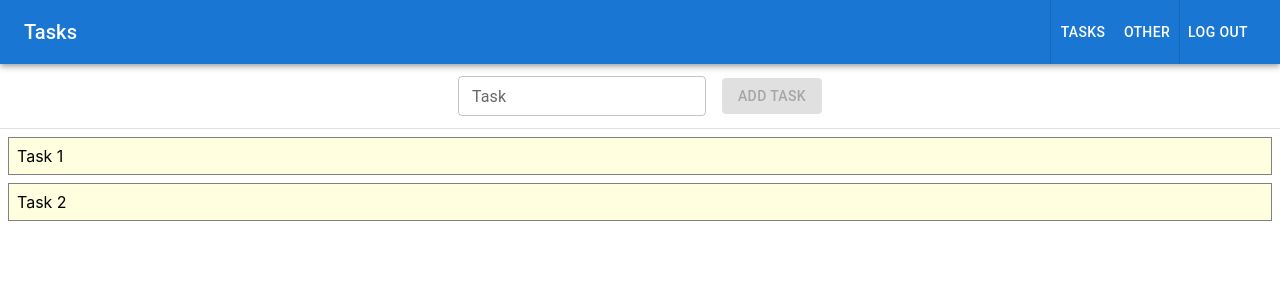
Test: Tasks › can add to task list only when text is entered
The width and height of the screenshot is (1280, 284).
expect the button with test id "add-task-button" is disabled: met, box [722, 78, 822, 114]
Type "some special new task" into the field labelled "Task" at {"x": 582, "y": 96}, box [458, 76, 706, 116]
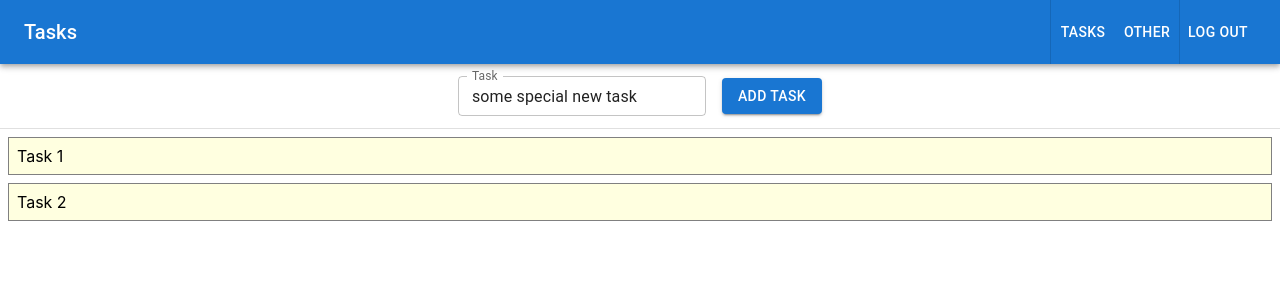
expect the button with test id "add-task-button" is enabled: met
Note: add task
Click the button with test id "add-task-button" at {"x": 772, "y": 96}, box [722, 78, 822, 114]
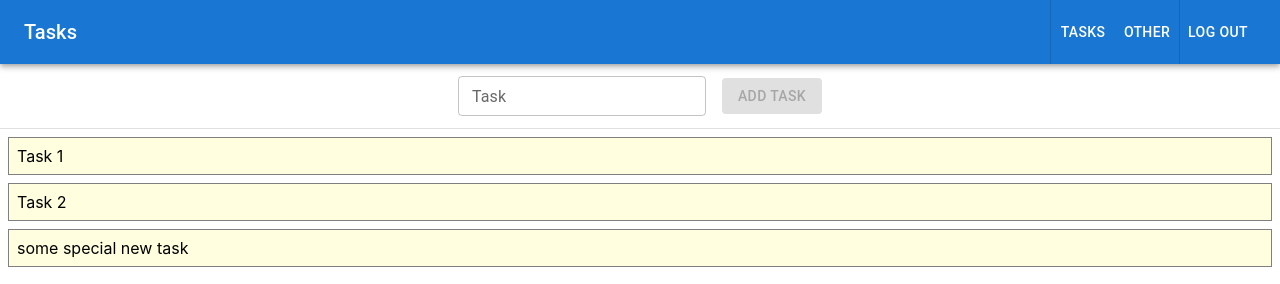
expect the button "some special new task" is shown: met, box [8, 229, 1272, 267]
